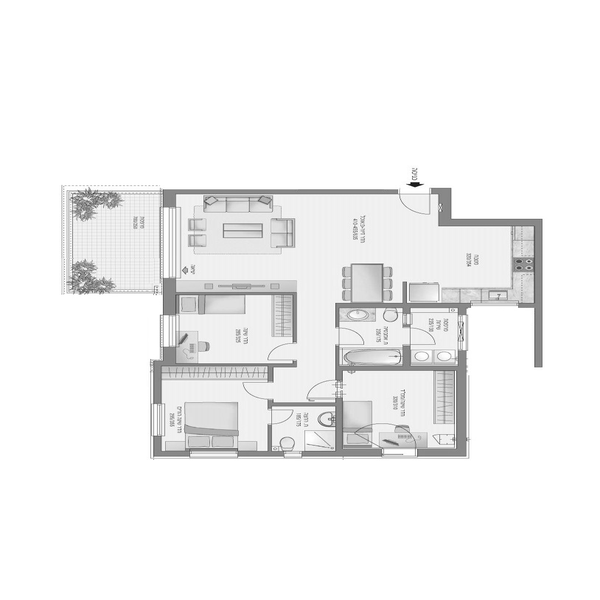door: (331, 320, 369, 349), (264, 404, 305, 429), (407, 319, 439, 350), (259, 335, 297, 361), (307, 376, 341, 405), (397, 188, 434, 214), (239, 374, 274, 398)
room: (287, 181, 484, 314), (148, 356, 345, 463), (439, 207, 551, 382), (154, 184, 301, 299), (331, 364, 474, 463), (157, 286, 304, 371), (335, 286, 461, 366)
wall: (163, 184, 397, 207), (529, 216, 550, 371), (329, 296, 477, 312), (441, 214, 552, 233), (337, 361, 458, 377), (171, 359, 297, 374), (450, 347, 465, 460), (177, 289, 299, 300), (302, 444, 387, 459), (331, 399, 347, 455), (272, 398, 345, 410), (391, 283, 420, 313), (163, 274, 180, 320), (290, 287, 303, 341), (439, 184, 453, 231), (413, 447, 457, 461), (151, 364, 163, 405), (239, 451, 287, 461), (157, 447, 191, 461), (159, 343, 177, 367), (265, 424, 278, 454), (150, 442, 167, 464)
window: (155, 205, 187, 277), (160, 315, 183, 346), (192, 447, 237, 461), (149, 404, 168, 437)
